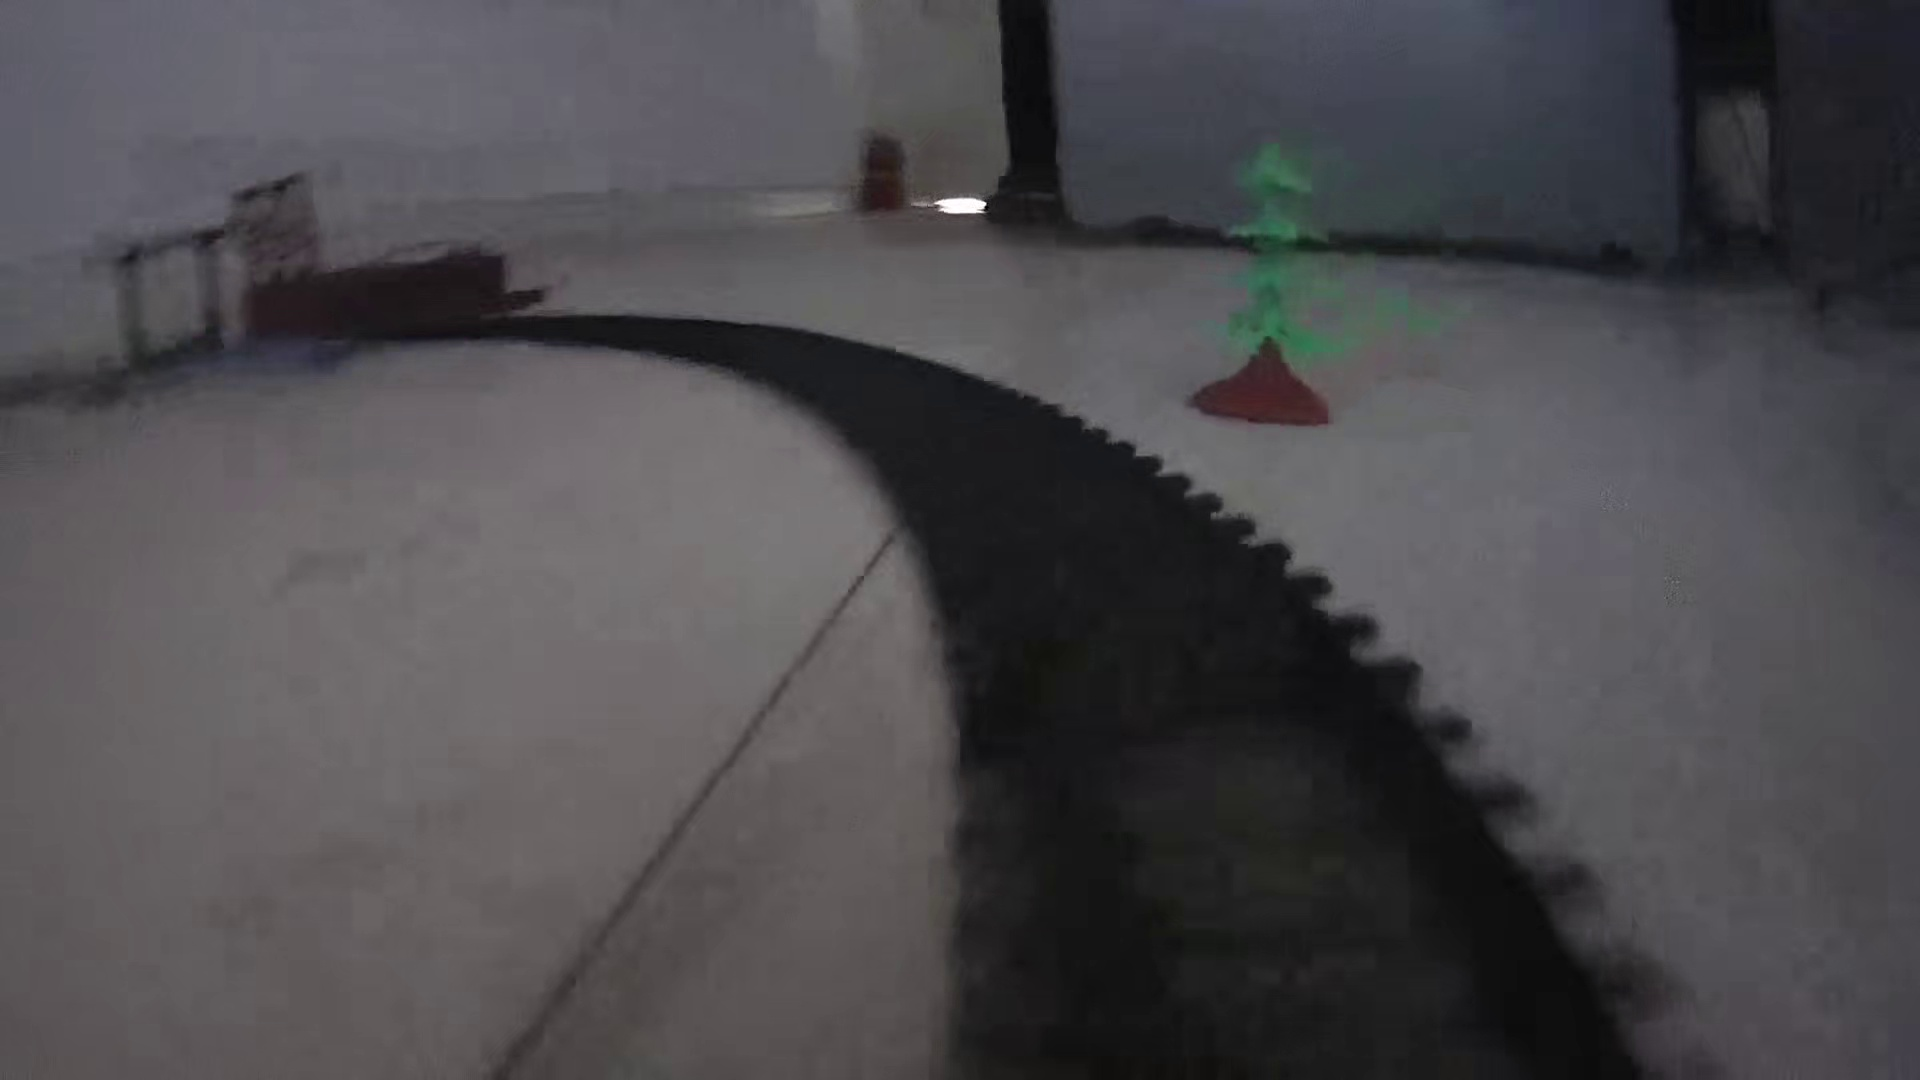tree: (1179, 136, 1340, 432)
